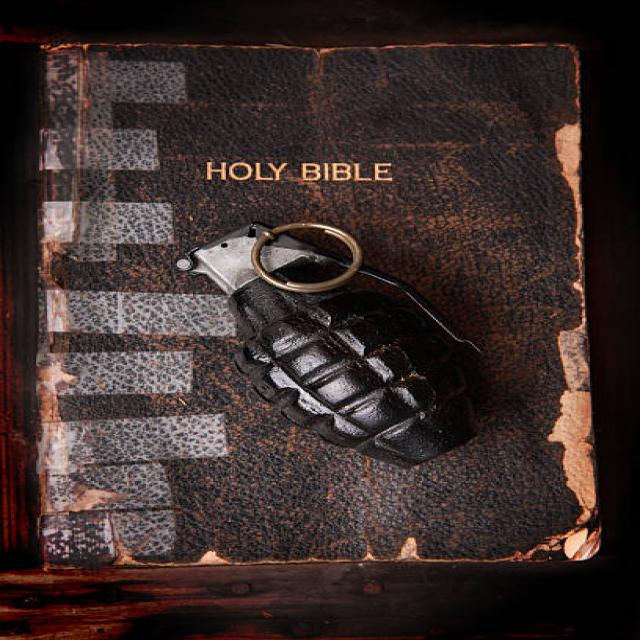grenade: (174, 217, 500, 469)
